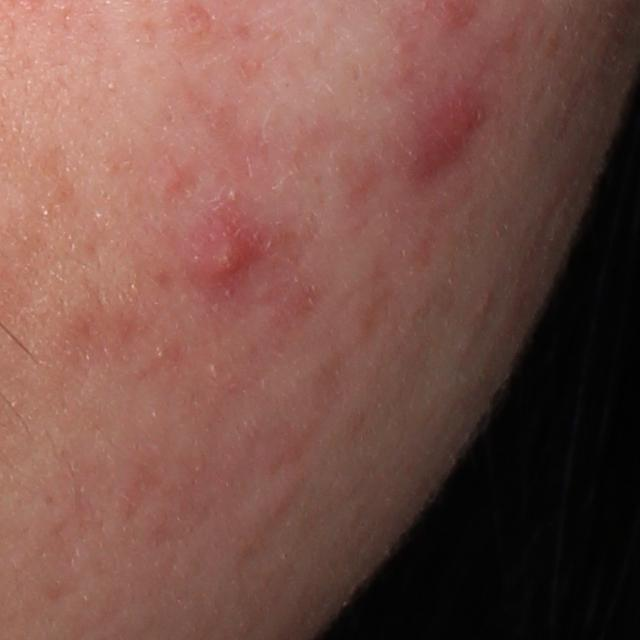papule: (421, 92, 480, 175)
